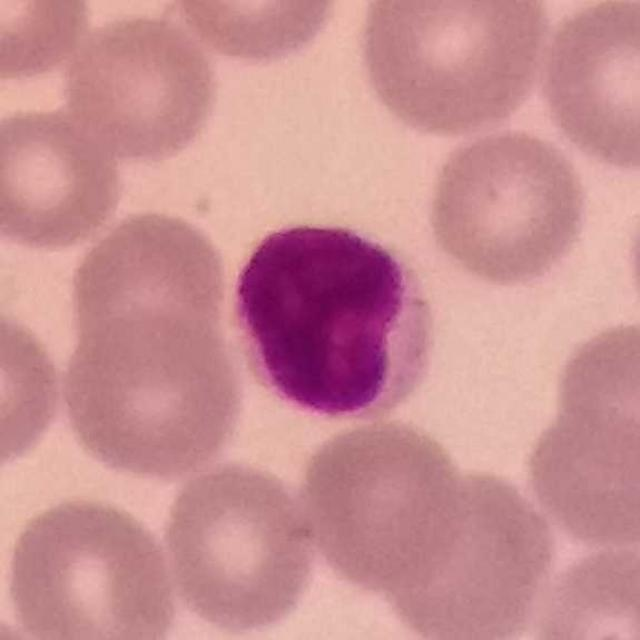Lymphocyte: (222, 213, 439, 426)
RBC: (55, 305, 248, 483), (372, 462, 561, 640), (293, 413, 473, 594), (156, 456, 323, 639), (422, 124, 594, 290), (62, 204, 236, 366), (352, 0, 553, 140), (0, 489, 181, 640), (59, 7, 224, 166), (0, 100, 128, 254), (521, 394, 640, 551), (533, 1, 640, 173), (545, 315, 640, 471), (164, 0, 350, 69), (522, 537, 640, 640), (0, 303, 68, 481), (0, 0, 96, 86), (620, 176, 640, 348)
